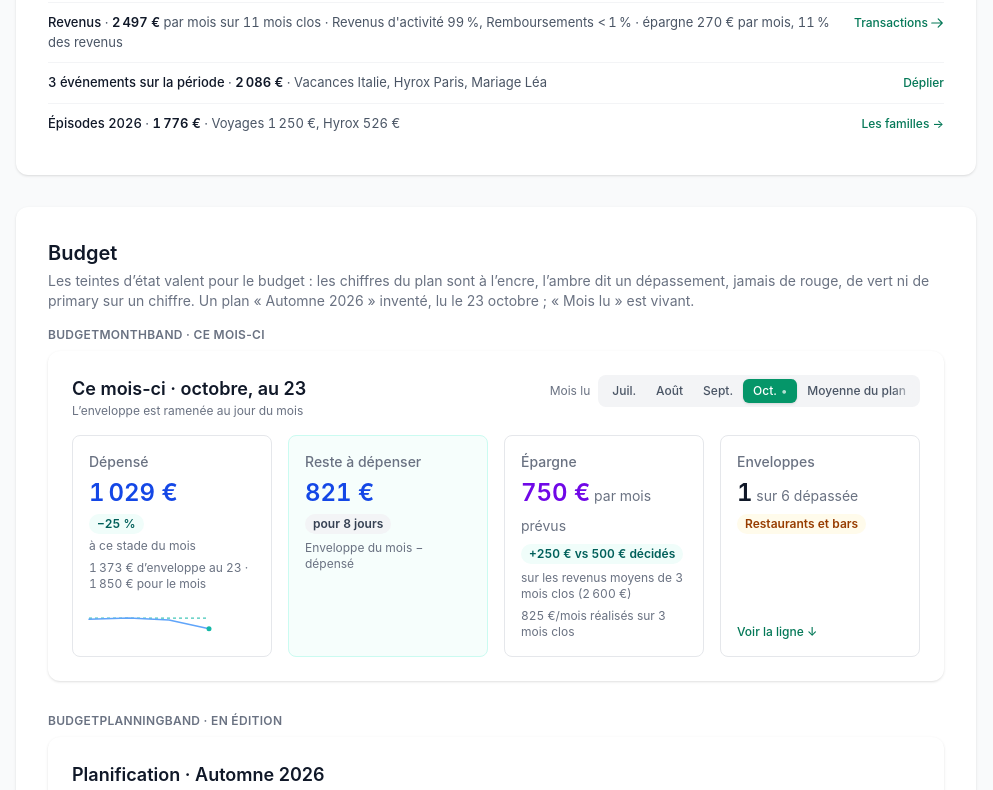
Scenario: DesignReferencePage — the budget › lets « Mois lu » read another month
This screenshot has width=993, height=790.
(page scrolled)
Step 1. Click the radio button with test id "budget-month-2026-08" → point(670, 391), box [646,379,693,403]
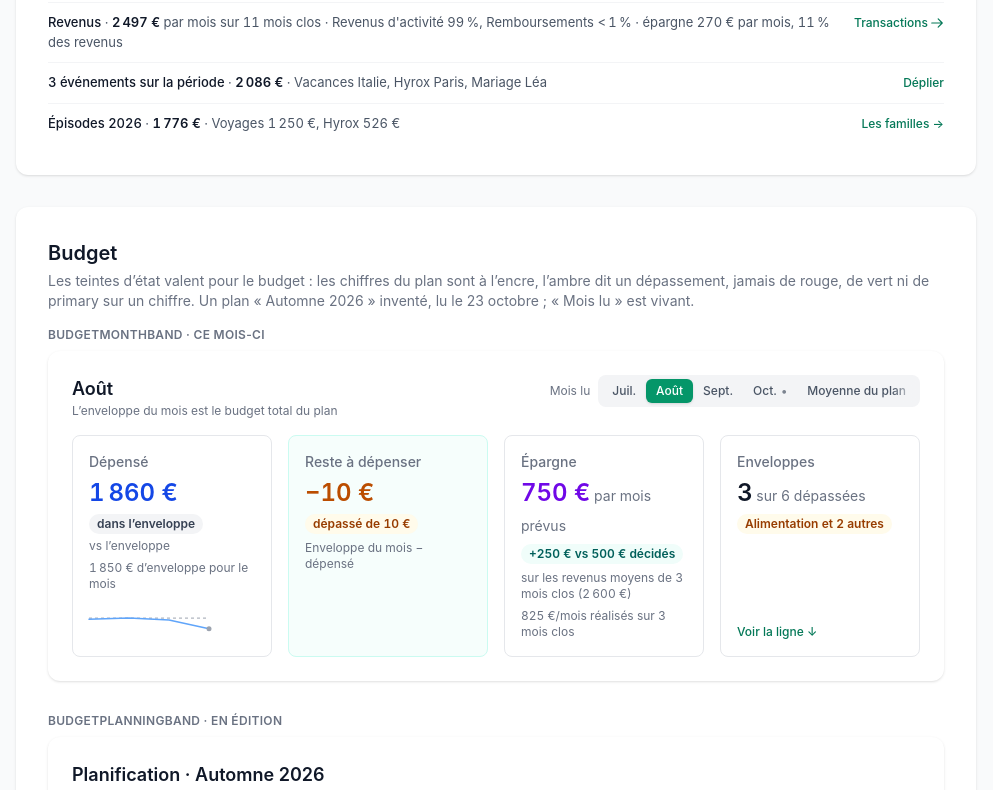
Expected: the heading with test id "budget-month-title" reads "Août", [72,378,113,399]
